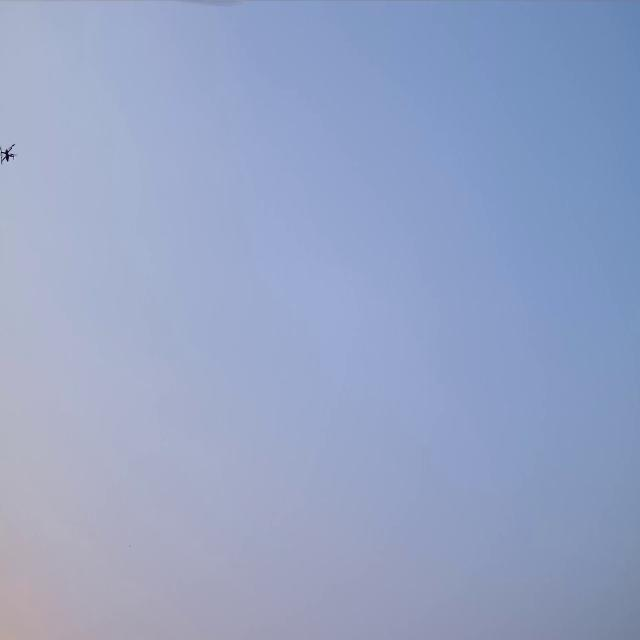UAV: (0, 140, 17, 165)
